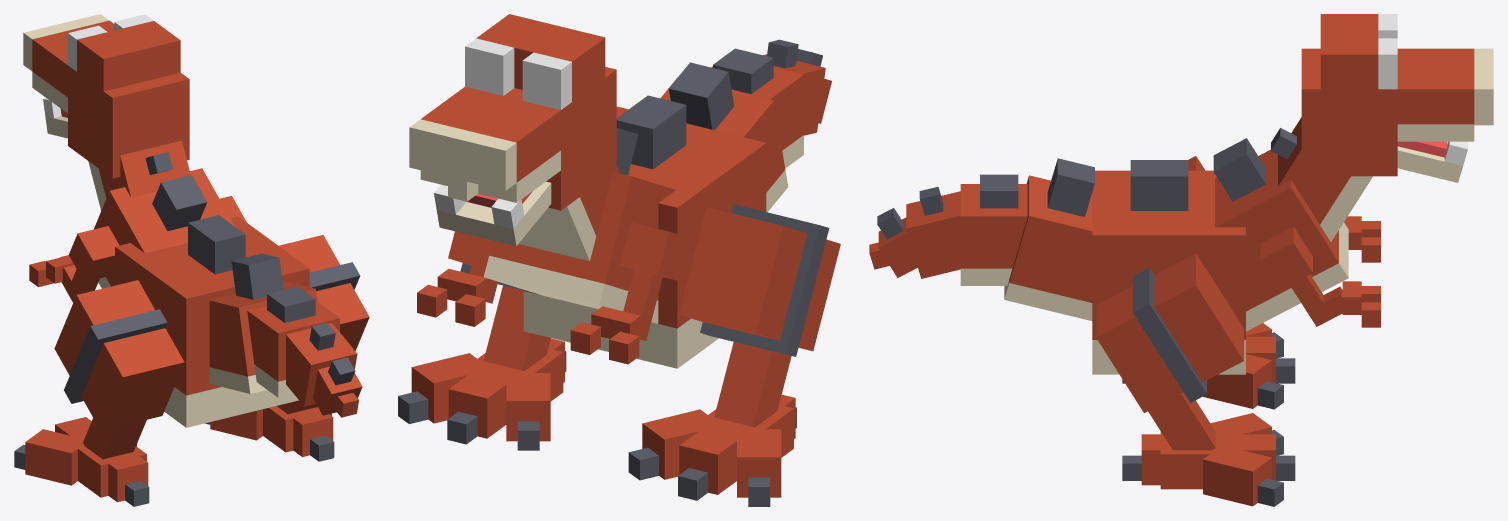
The model's file is yangchuanosaurus.obj.
3 renders of one model, left to right at view 1: azimuth 30°, elevation 25°; view 2: azimuth 150°, elevation 25°; view 3: azimuth 270°, elevation 25°, orthographic. The views are drawn at different scales.
Parts seen in each view (by area): view 1: Head, Tail, LowerTorso, LeftUpperLeg, UpperTorso, LeftFoot, RightFoot, RightUpperLeg, LeftUpperArm, LeftLowerLeg, LeftLowerArm, Mouth; view 2: Head, LowerTorso, LeftUpperLeg, UpperTorso, Tail, RightFoot, LeftFoot, LeftLowerLeg, Mouth, LeftUpperArm, RightLowerLeg, LeftLowerArm (+3 smaller); view 3: Head, Tail, LowerTorso, UpperTorso, RightUpperLeg, RightFoot, LeftFoot, RightUpperArm, RightLowerLeg, Mouth, RightLowerArm, LeftLowerArm.
Boxes of the visible parts, x1,y1,x2,y2 form: Head: (23, 14, 189, 178); Tail: (209, 253, 362, 417); LowerTorso: (115, 215, 309, 427); LeftUpperLeg: (54, 280, 184, 430); UpperTorso: (88, 140, 234, 288); LeftFoot: (14, 417, 149, 506); RightFoot: (205, 406, 334, 461); RightUpperLeg: (279, 235, 369, 350); LeftUpperArm: (69, 226, 119, 294); LeftLowerLeg: (83, 418, 146, 459); LeftLowerArm: (29, 255, 78, 302); Mouth: (43, 98, 67, 138); Head: (409, 14, 616, 210); LowerTorso: (523, 95, 766, 368); LeftUpperLeg: (678, 204, 840, 356); UpperTorso: (483, 128, 675, 323); Tail: (660, 39, 831, 212); RightFoot: (398, 338, 566, 450); LeftFoot: (628, 394, 796, 506); LeftLowerLeg: (714, 342, 791, 427); Mouth: (434, 181, 551, 246); LeftUpperArm: (620, 222, 688, 319); RightLowerLeg: (483, 285, 550, 370); LeftLowerArm: (570, 306, 651, 364); Head: (1301, 14, 1493, 176); Tail: (869, 158, 1094, 320); LowerTorso: (1092, 160, 1245, 374); UpperTorso: (1213, 117, 1372, 331); RightUpperLeg: (1096, 253, 1243, 412); RightFoot: (1122, 413, 1295, 506); LeftFoot: (1122, 323, 1295, 409); RightUpperArm: (1260, 226, 1323, 311); RightLowerLeg: (1148, 392, 1215, 450); Mouth: (1397, 141, 1467, 182); RightLowerArm: (1307, 281, 1380, 327); LeftLowerArm: (1344, 216, 1380, 262).
Size of the model in its own units: 14.52 by 16.98 by 24.38.
